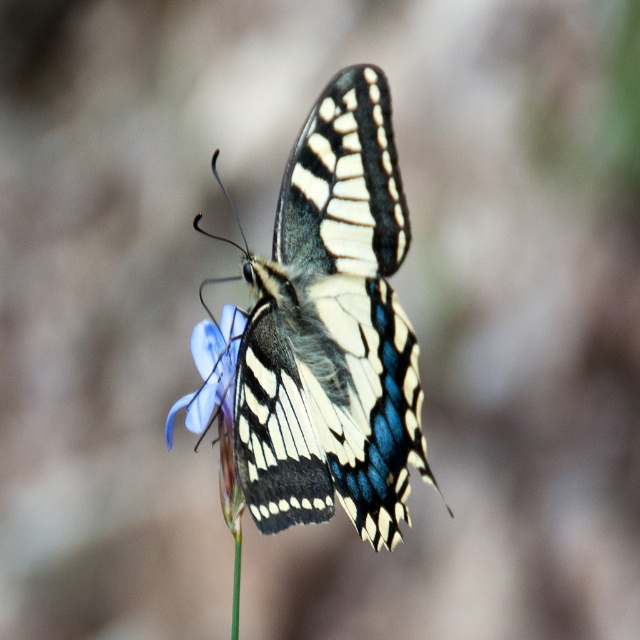Butterfly: (176, 39, 440, 562)
